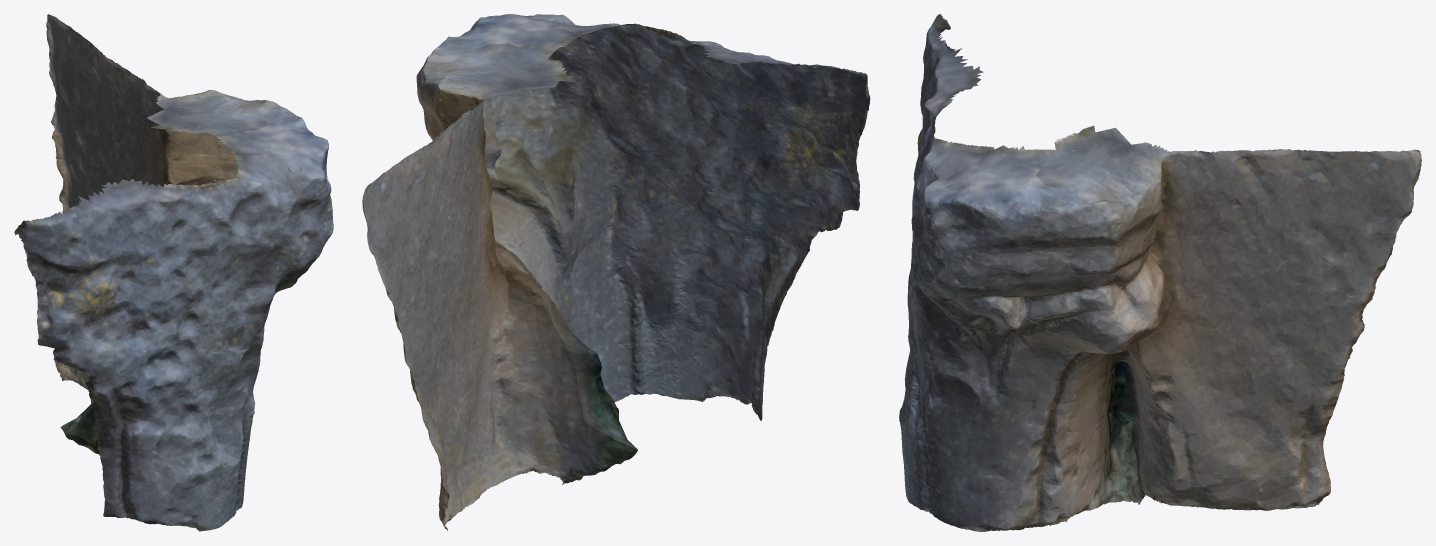
Rendered from M18-chapiteau-G.glb.
3 views of the same model, side by side, from view 1: azimuth 30°, elevation 25°; view 2: azimuth 150°, elevation 25°; view 3: azimuth 270°, elevation 25° (orthographic). The views are drawn at different scales.
Parts seen in each view (by area): view 1: M18-chapiteau-G_25K; view 2: M18-chapiteau-G_25K; view 3: M18-chapiteau-G_25K.
Boxes of the visible parts, x1,y1,x2,y2 form: M18-chapiteau-G_25K: [14, 14, 333, 531]; M18-chapiteau-G_25K: [362, 14, 870, 531]; M18-chapiteau-G_25K: [899, 14, 1421, 531].
Size of the model in its own units: 0.2354 by 0.2359 by 0.2825.
1 material, 1 textured.
